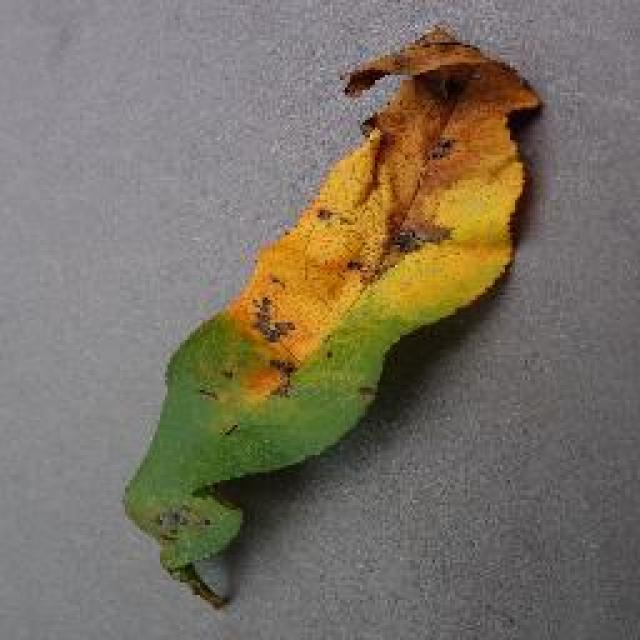Peach_Bacterial_Spot: (259, 0, 448, 378)
